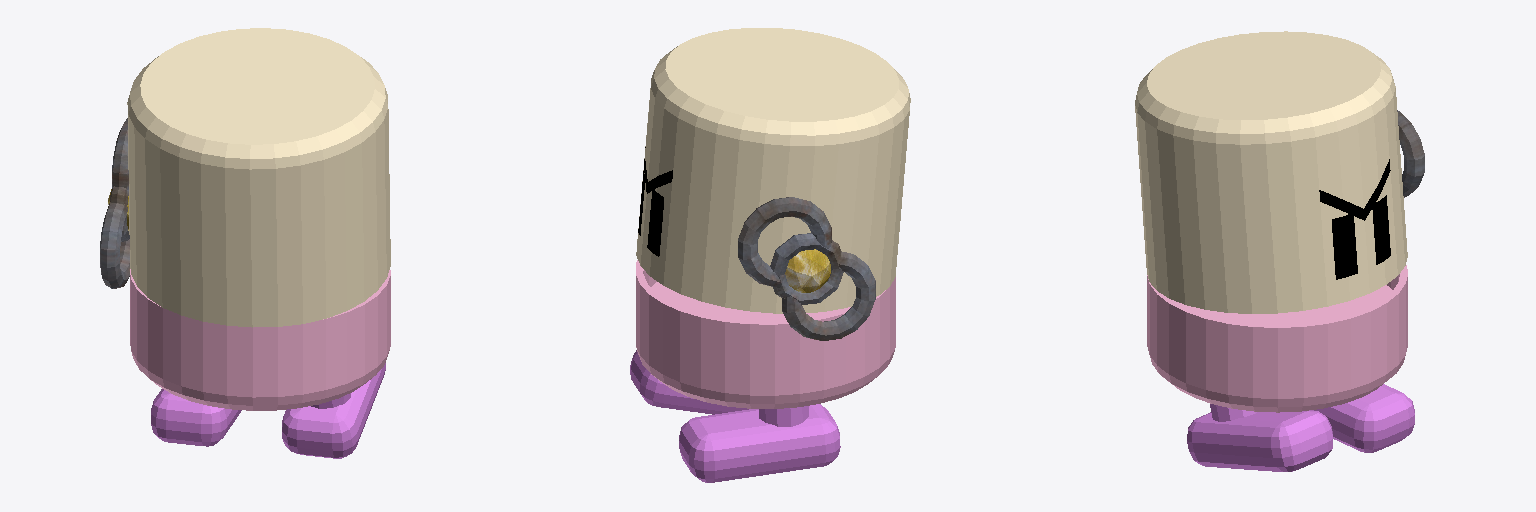
3 renders of one model, left to right at view 1: azimuth 30°, elevation 25°; view 2: azimuth 150°, elevation 25°; view 3: azimuth 270°, elevation 25°, orthographic.
Visible parts, largest first — view 1: Head, Jaw, RightLeg, WindupKey, LeftLeg; view 2: Head, Jaw, WindupKey, LeftLeg, RightLeg; view 3: Head, Jaw, RightLeg, LeftLeg, WindupKey.
Part boxes in pixels (x1,y1,x2,y2): Head: (127, 28, 390, 327); Jaw: (130, 269, 390, 410); RightLeg: (282, 363, 385, 458); WindupKey: (100, 118, 129, 288); LeftLeg: (151, 389, 241, 446); Head: (636, 28, 910, 313); Jaw: (636, 260, 895, 408); WindupKey: (738, 197, 875, 340); LeftLeg: (679, 404, 840, 482); RightLeg: (630, 350, 748, 414); Head: (1135, 31, 1407, 313); Jaw: (1147, 265, 1407, 412); RightLeg: (1187, 404, 1332, 471); LeftLeg: (1314, 384, 1414, 452); WindupKey: (1397, 110, 1424, 197).
Bounding box in the file's own units: 116 × 157 × 111.
6 materials, 2 textured.